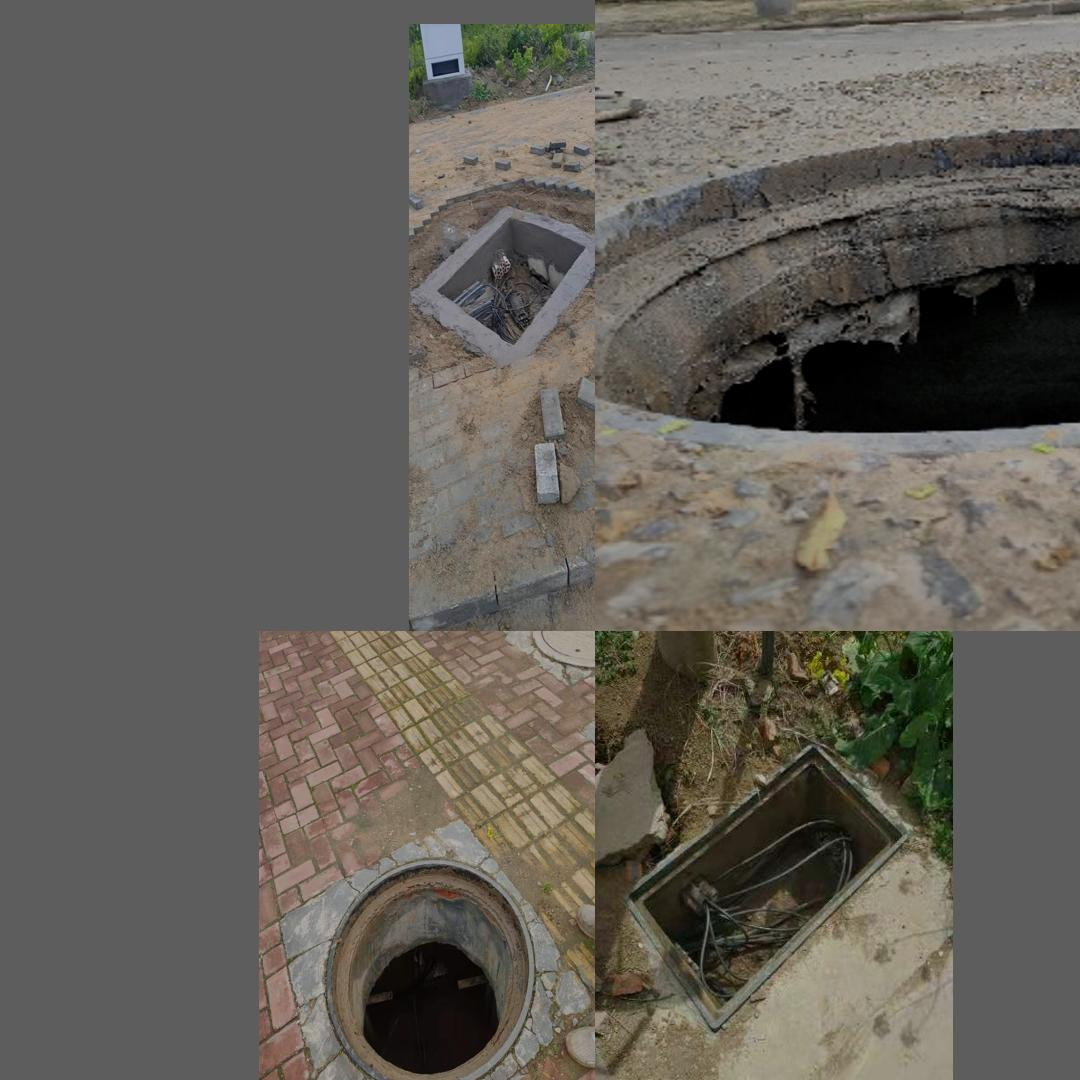lose: (597, 126, 1080, 450), (624, 742, 906, 1033), (324, 860, 535, 1080), (416, 195, 588, 346)
